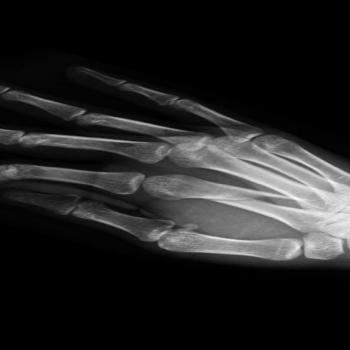Fracture: (197, 192, 264, 211)
